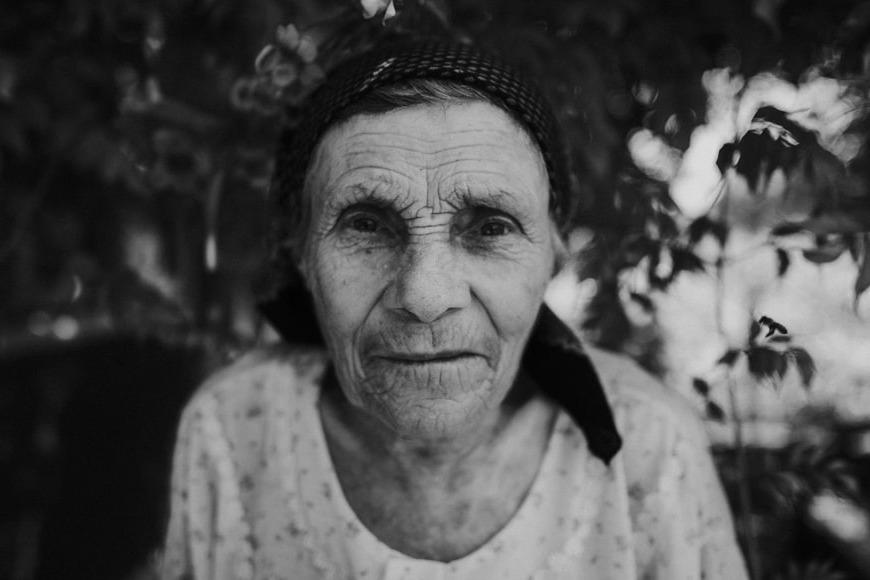Wrinkles: (372, 145, 502, 154), (337, 166, 415, 180), (419, 159, 498, 169), (440, 171, 503, 182), (351, 133, 437, 141), (443, 131, 483, 135), (438, 184, 442, 211), (426, 162, 428, 207)
